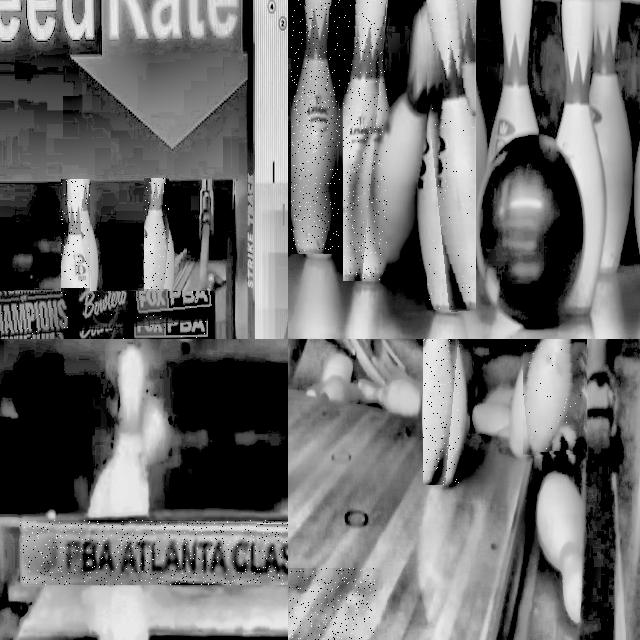bowling-ball: (478, 133, 585, 325)
bowling-pins: (558, 0, 606, 313), (427, 0, 474, 310), (343, 0, 387, 280), (292, 0, 340, 253), (591, 0, 632, 273), (488, 0, 538, 163), (456, 0, 488, 187), (524, 339, 572, 453), (423, 339, 456, 485), (61, 180, 90, 289), (144, 178, 169, 290)
sweep board: (20, 521, 288, 585), (0, 291, 213, 339)
